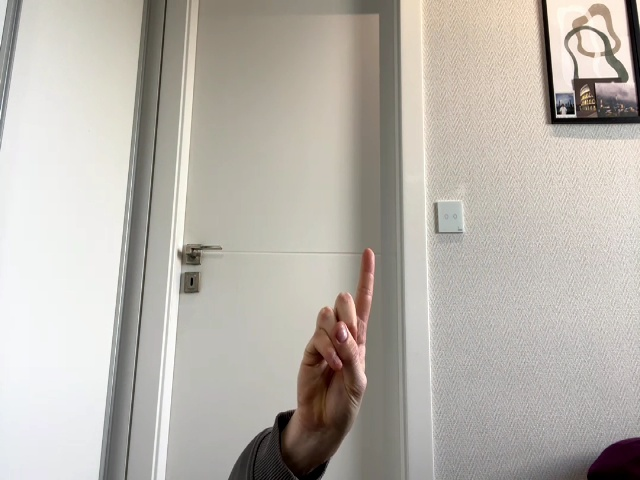Z: (297, 248, 374, 433)
